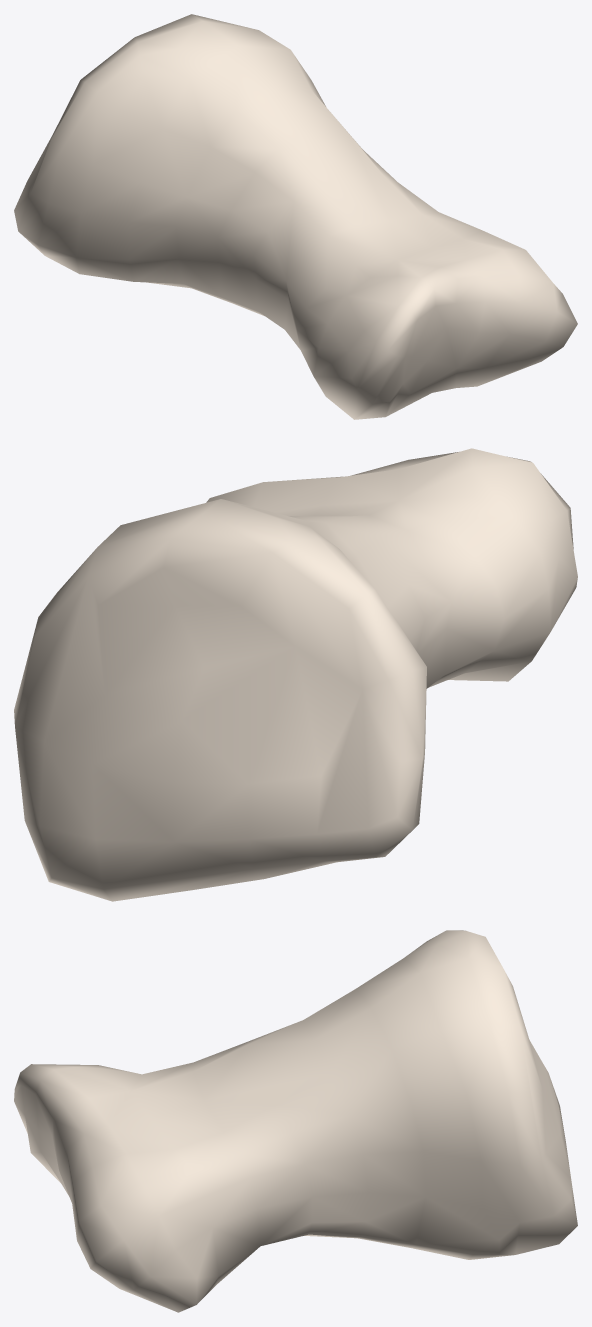
File: left_toe_2_middle.glb
3 views of the same model, one above another, from view 1: azimuth 30°, elevation 25°; view 2: azimuth 150°, elevation 25°; view 3: azimuth 270°, elevation 25° (orthographic). The views are drawn at different scales.
Parts seen in each view (by area): view 1: Middle phalanx of second finger of foot.r; view 2: Middle phalanx of second finger of foot.r; view 3: Middle phalanx of second finger of foot.r.
Boxes of the visible parts, x1=… form: Middle phalanx of second finger of foot.r: x1=14, y1=14, x2=577, y2=419; Middle phalanx of second finger of foot.r: x1=14, y1=448, x2=577, y2=901; Middle phalanx of second finger of foot.r: x1=14, y1=930, x2=577, y2=1312.
Size of the model in its own units: 0.0118 by 0.00881 by 0.0162.
